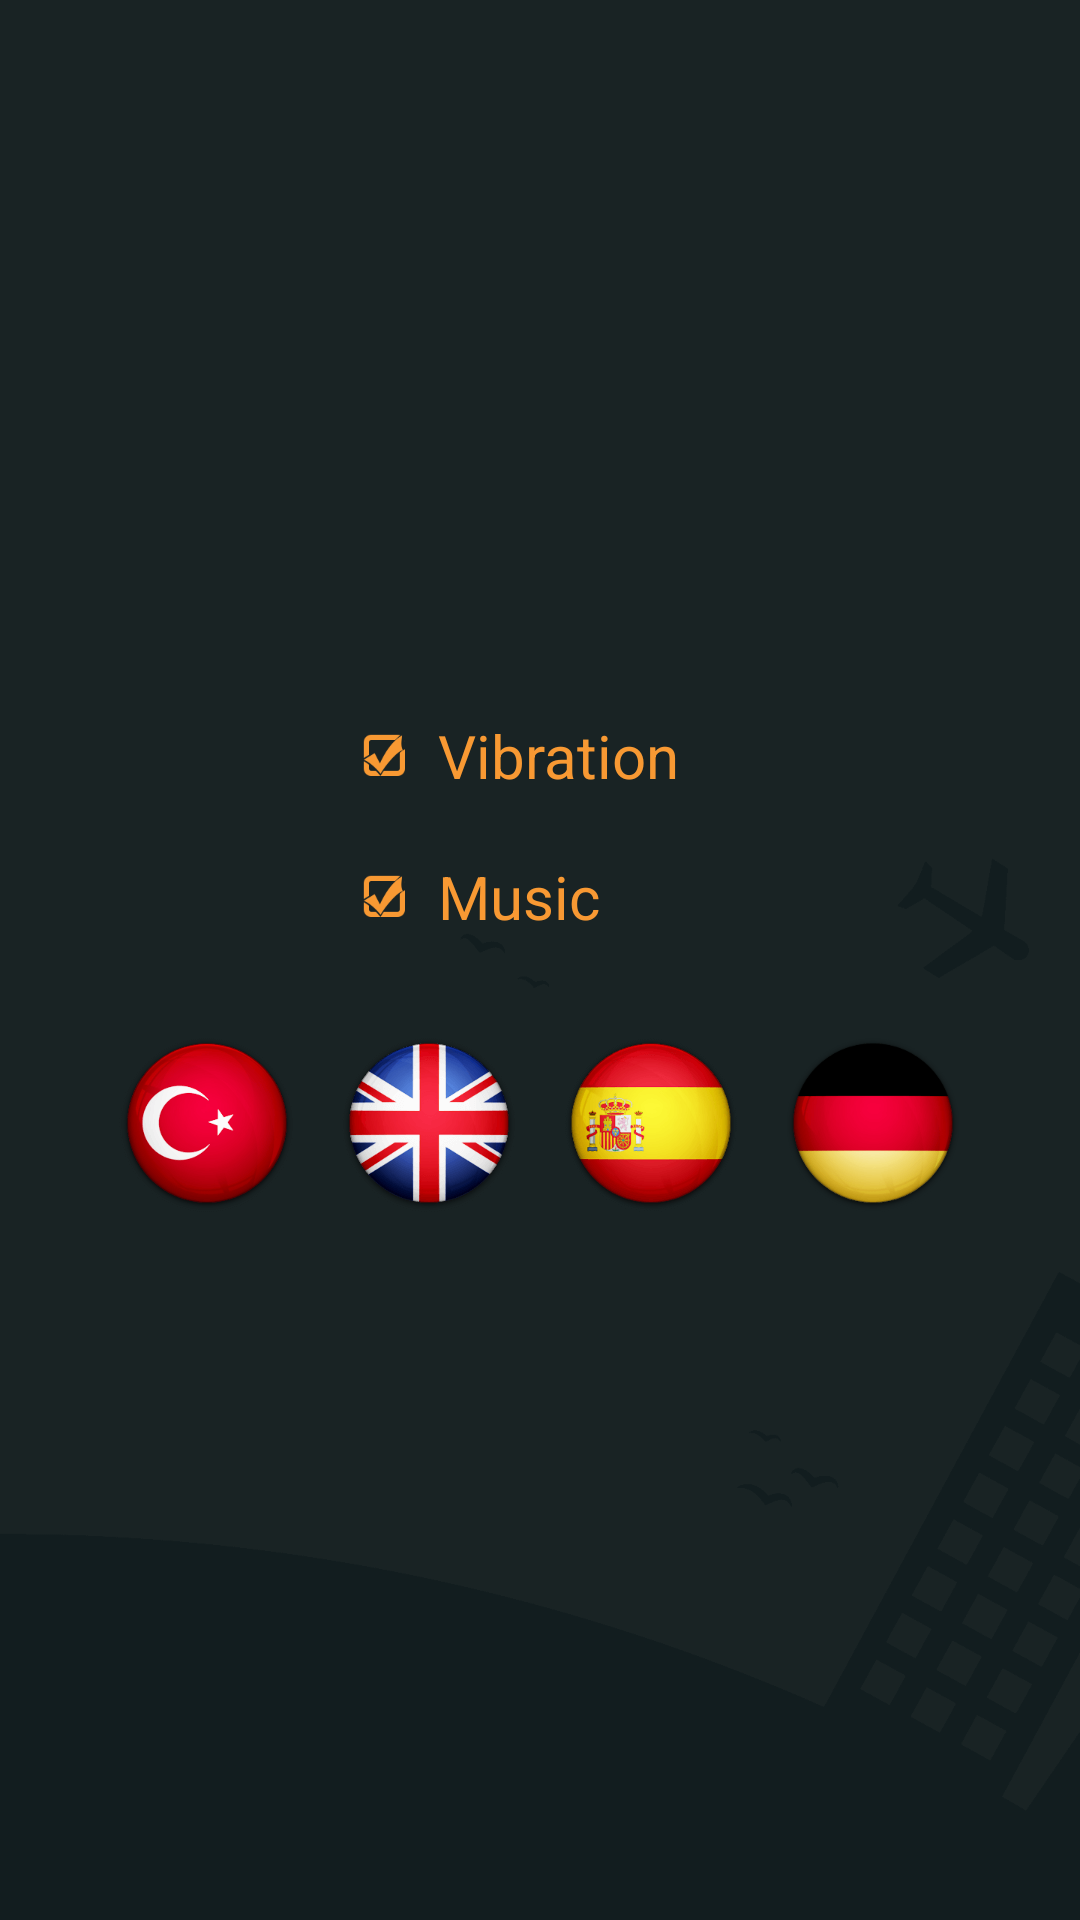

Point at icon controls on the screen. Image size 1080px x 1920px, points as (x=x, y=y).
england: (x=429, y=1123)
german: (x=873, y=1123)
spain: (x=651, y=1123)
turkce: (x=207, y=1123)
